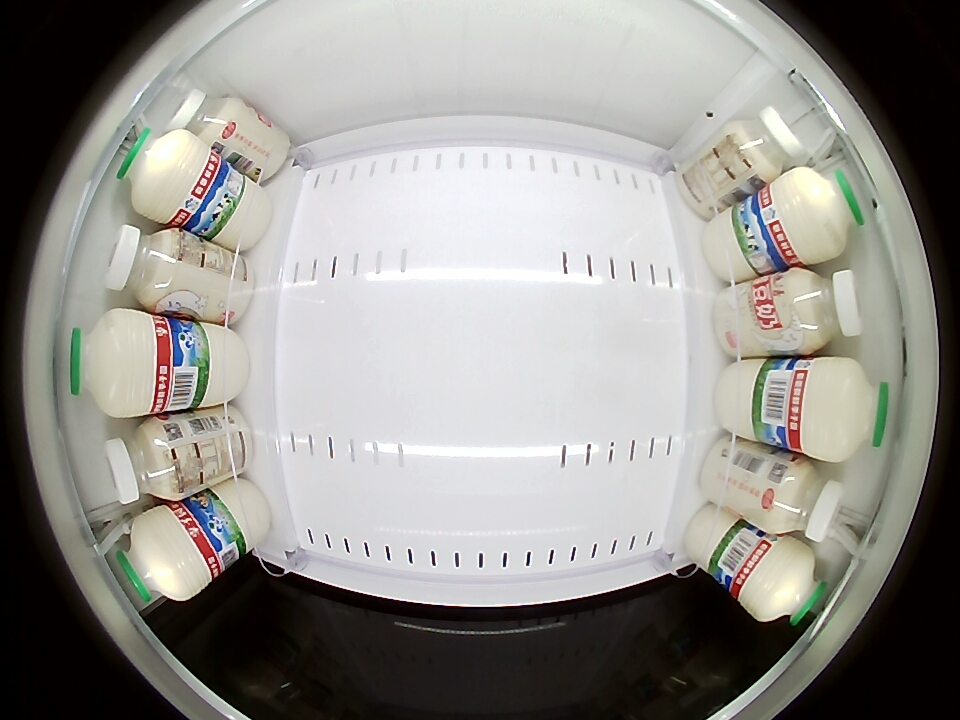liziyuan: (796, 358, 889, 464), (69, 308, 159, 416), (117, 127, 212, 226), (115, 507, 212, 603), (737, 536, 826, 626), (788, 166, 867, 264)
weiweidounai: (103, 224, 187, 312), (103, 417, 184, 505), (782, 267, 864, 353), (764, 458, 845, 541), (725, 106, 805, 182), (165, 87, 242, 147)
